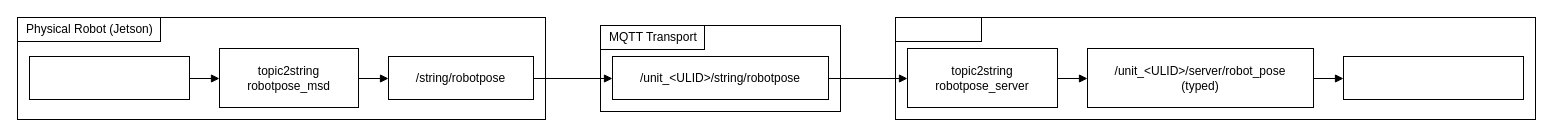
Some shapes in this 1553 by 137 pixel diagram are drawn without their labels. Each missing label, with the box of its shape:
/robot_pose (typed): (28, 56, 190, 100)
Cloud Server: (894, 16, 982, 42)
rosbridge_suite (:9090): (1342, 56, 1524, 100)
